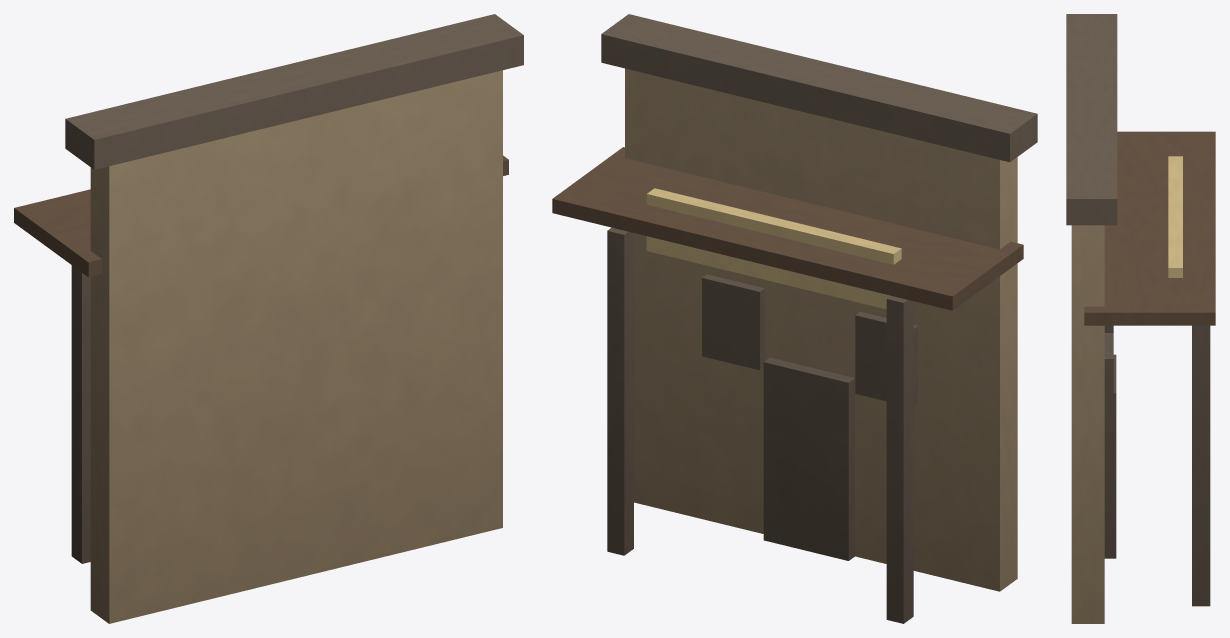
The model's file is saloon_facade.glb.
3 views of the same model, side by side, from view 1: azimuth 30°, elevation 25°; view 2: azimuth 150°, elevation 25°; view 3: azimuth 270°, elevation 25° (orthographic). The views are drawn at different scales.
Parts seen in each view (by area): view 1: saloon_facade; view 2: saloon_facade; view 3: saloon_facade.
Boxes of the visible parts, x1,y1,x2,y2 form: saloon_facade: (14,14,523,623); saloon_facade: (552,14,1037,623); saloon_facade: (1066,14,1215,623).
Size of the model in its own units: 2.4 by 2.62 by 0.82.
Materials: 1 (1 with a texture image).
